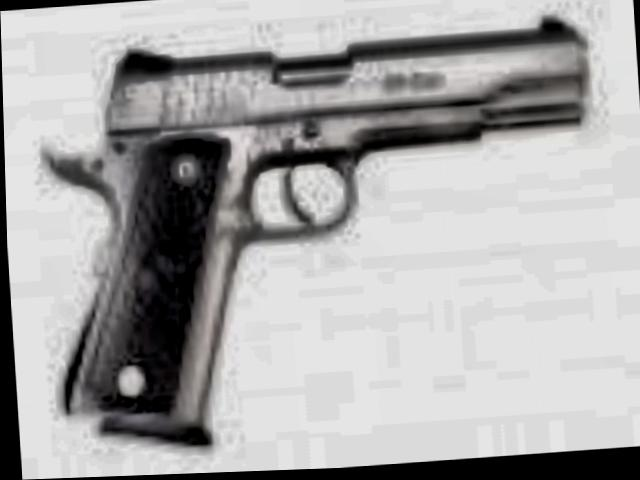pistol: (30, 18, 605, 445)
